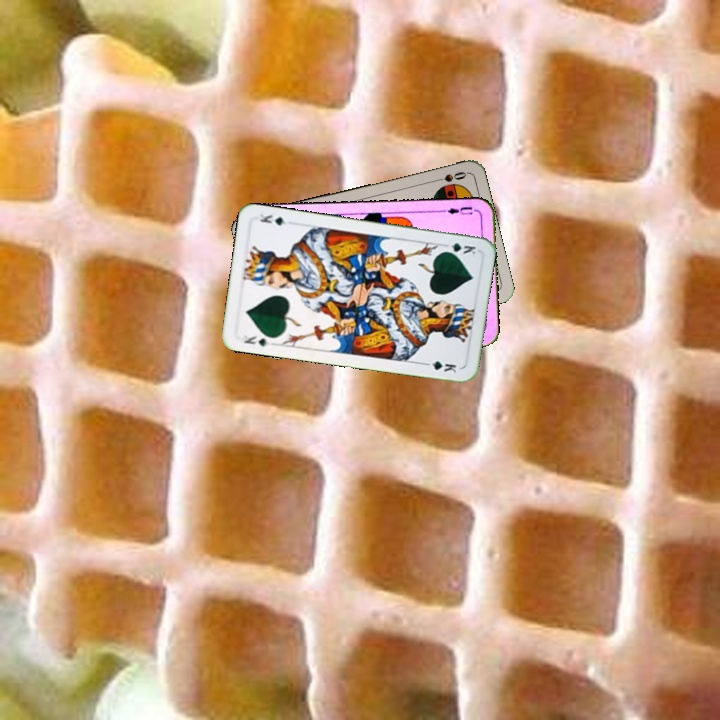EU: (438, 203, 479, 217)
GK: (439, 238, 478, 257), (239, 331, 276, 349)
SO: (429, 167, 469, 185)
